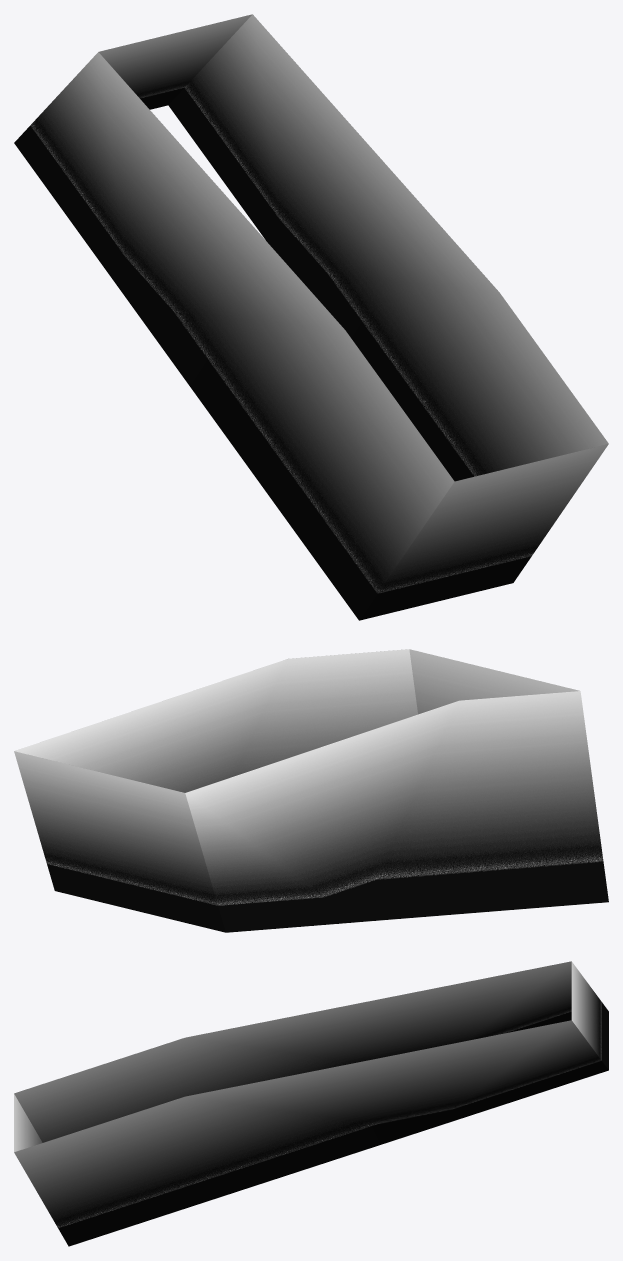
The model's file is gWinLongFront.fbx.
3 renders of one model, top to bottom at view 1: azimuth 30°, elevation 25°; view 2: azimuth 150°, elevation 25°; view 3: azimuth 270°, elevation 25°, orthographic. The views are drawn at different scales.
Parts seen in each view (by area): view 1: Arch__1__1.006; view 2: Arch__1__1.006; view 3: Arch__1__1.006.
Boxes of the visible parts, x1,y1,x2,y2 form: Arch__1__1.006: (14,14,608,620); Arch__1__1.006: (14,649,608,932); Arch__1__1.006: (14,961,608,1246).
Bounding box in the file's own units: 513 × 728 × 1572.
